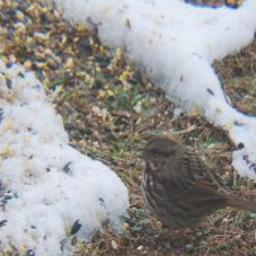Sparrow: (134, 132, 256, 247)
